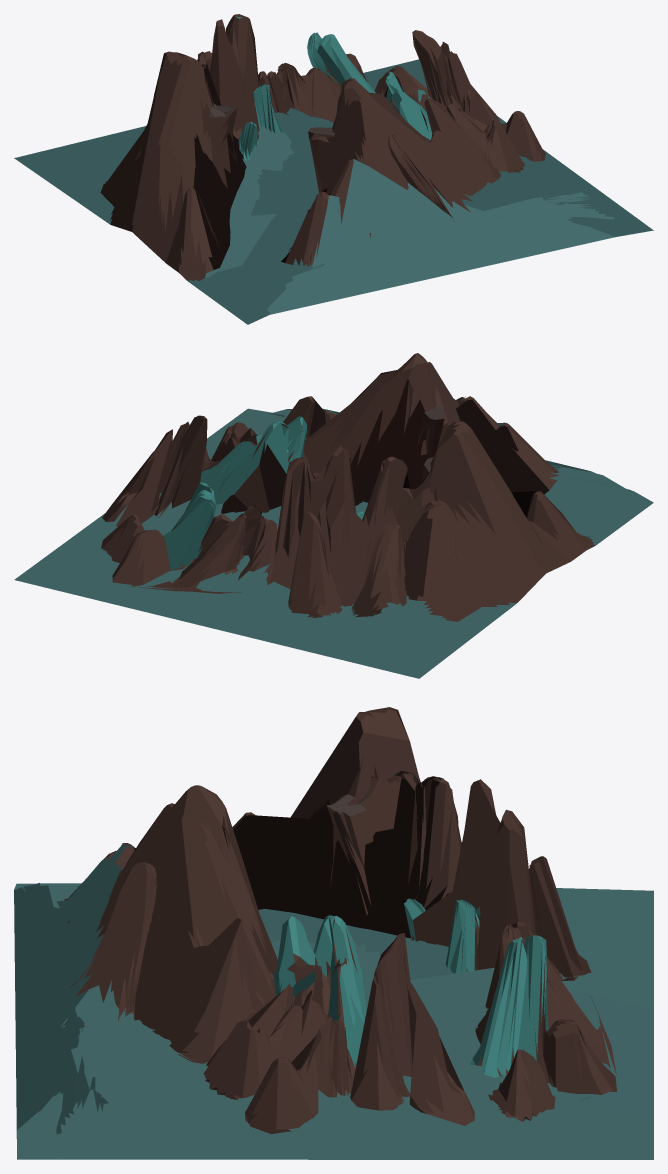
Rendered from land.obj.
3 renders of one model, top to bottom at view 1: azimuth 30°, elevation 25°; view 2: azimuth 150°, elevation 25°; view 3: azimuth 270°, elevation 25°, orthographic. The views are drawn at different scales.
Parts seen in each view (by area): view 1: Landscape.004; view 2: Landscape.004; view 3: Landscape.004.
Part boxes in pixels (<box>): Landscape.004: <box>14,14,653,324</box>; Landscape.004: <box>14,353,653,678</box>; Landscape.004: <box>14,707,653,1159</box>.
Bounding box in the file's own units: 2.02 × 0.8353 × 2.01.
